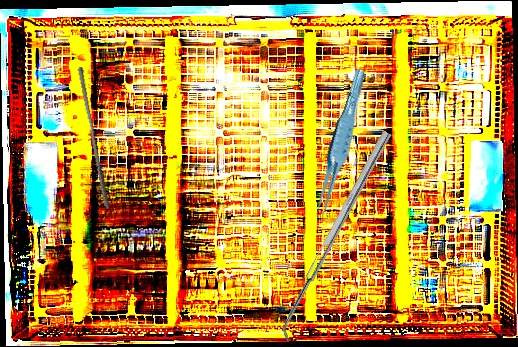Pusher: (72, 66, 116, 210)
Spatula Surgical: (274, 130, 400, 343)
Tissue Forceps: (301, 67, 378, 224)
